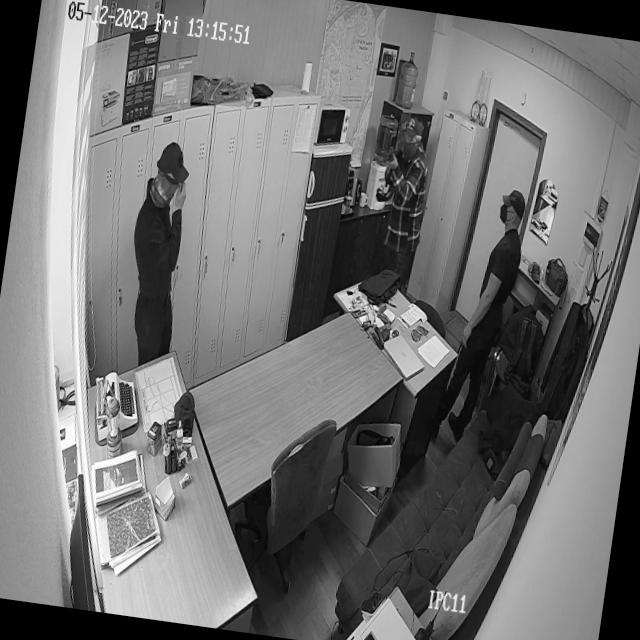gun: (386, 150, 404, 174)
person: (435, 194, 528, 452), (124, 136, 200, 368)
person with a gun: (372, 116, 436, 280)
